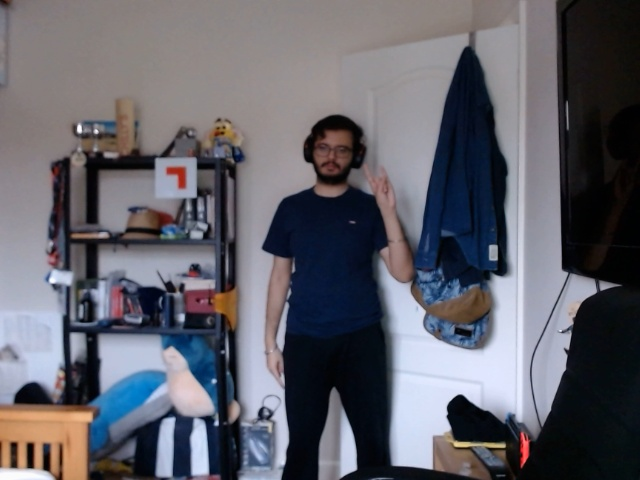Rock on: (361, 159, 404, 224)
